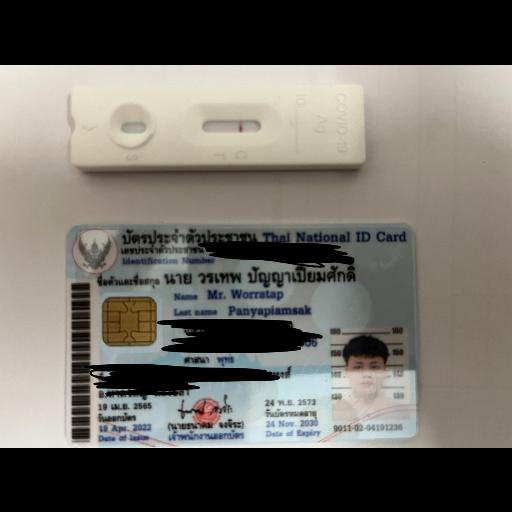Neg: (72, 86, 362, 160)
